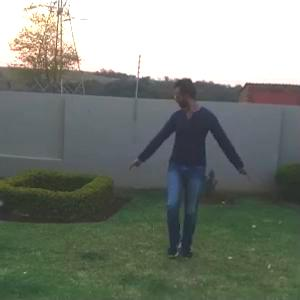land: (113, 68, 279, 284)
